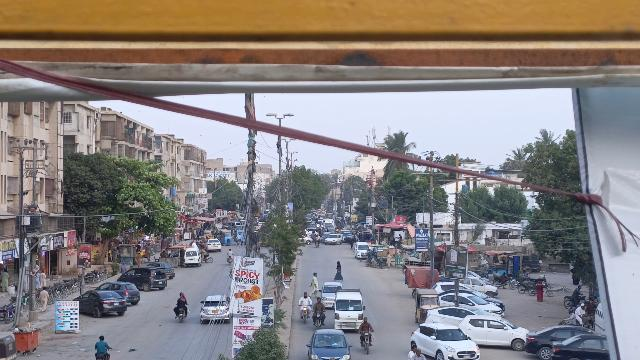Bike: (358, 329, 375, 355), (312, 310, 325, 329), (299, 305, 311, 325), (175, 307, 189, 324), (94, 354, 109, 360)
Car: (411, 321, 481, 360), (462, 314, 528, 351), (524, 324, 591, 359), (439, 291, 505, 317), (552, 333, 610, 360), (73, 289, 128, 317), (306, 329, 353, 360), (426, 304, 476, 329), (119, 267, 168, 291), (99, 281, 141, 305), (200, 294, 230, 322), (321, 282, 344, 307)
Person: (306, 273, 322, 299), (93, 336, 111, 354), (311, 295, 329, 313), (358, 315, 375, 334), (297, 290, 314, 309), (332, 259, 345, 283), (174, 291, 190, 310), (39, 286, 50, 311), (566, 307, 579, 324), (575, 302, 587, 319)
Rickshaw: (411, 287, 439, 325)
Van: (333, 290, 364, 330), (183, 247, 201, 269)
